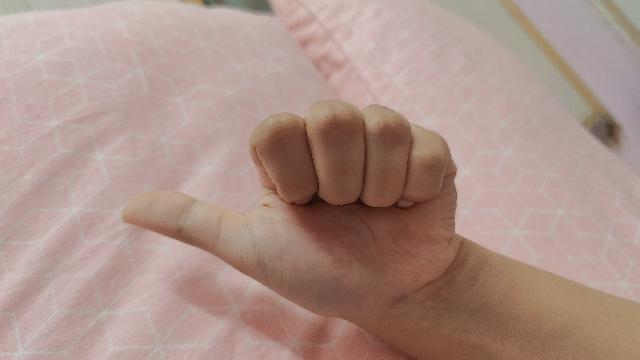shikhar: (119, 100, 640, 360)
